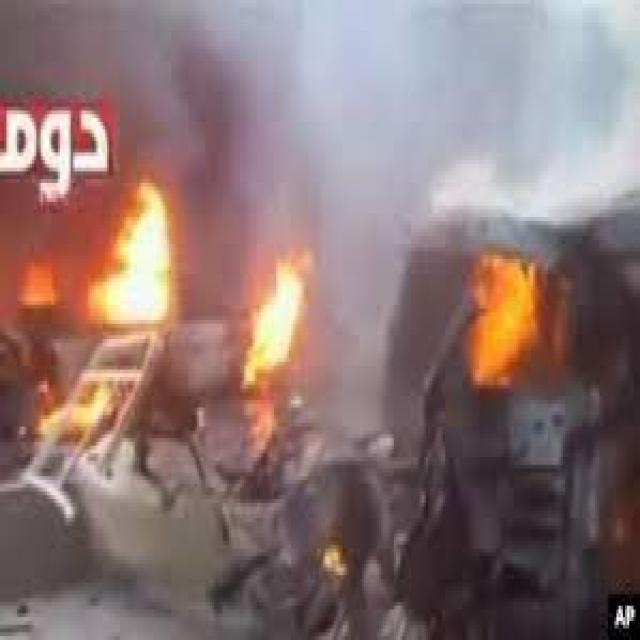fire: (88, 186, 186, 324), (462, 248, 546, 400), (235, 244, 317, 396), (34, 388, 116, 449)
